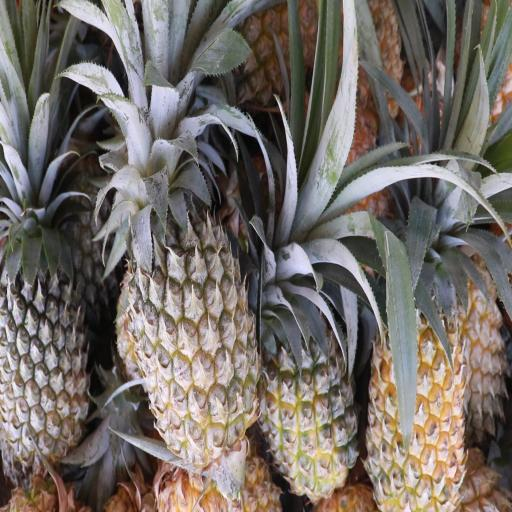------------------------------: (123, 160, 264, 501), (258, 286, 362, 512)
Pineapple - v8 v1: (364, 250, 470, 512)
